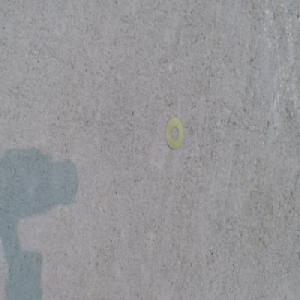Washer: (163, 116, 184, 150)
